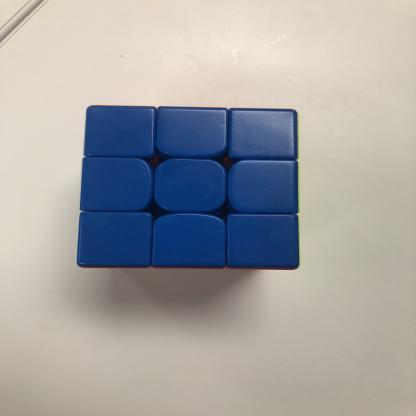SolvedCube: (71, 98, 303, 286)
